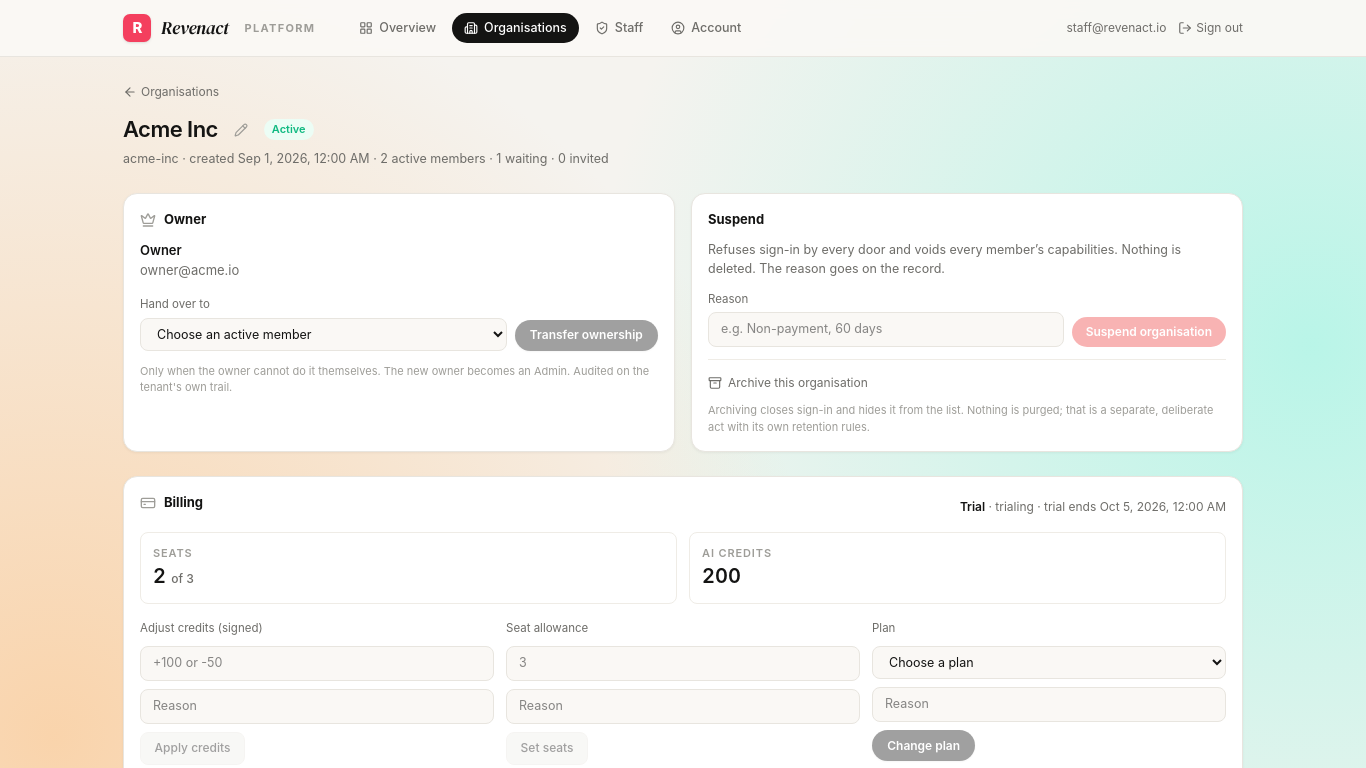
Platform portal › suspends an organisation with a reason, and reactivates it
Expected: the heading "Acme Inc" is shown, [123,113,218,146]
Expected: the button "Suspend organisation" is disabled, [1072,317,1226,347]
In the 1st field labelled "Reason": [886, 330] box [708,312,1064,347], type "Non-payment"
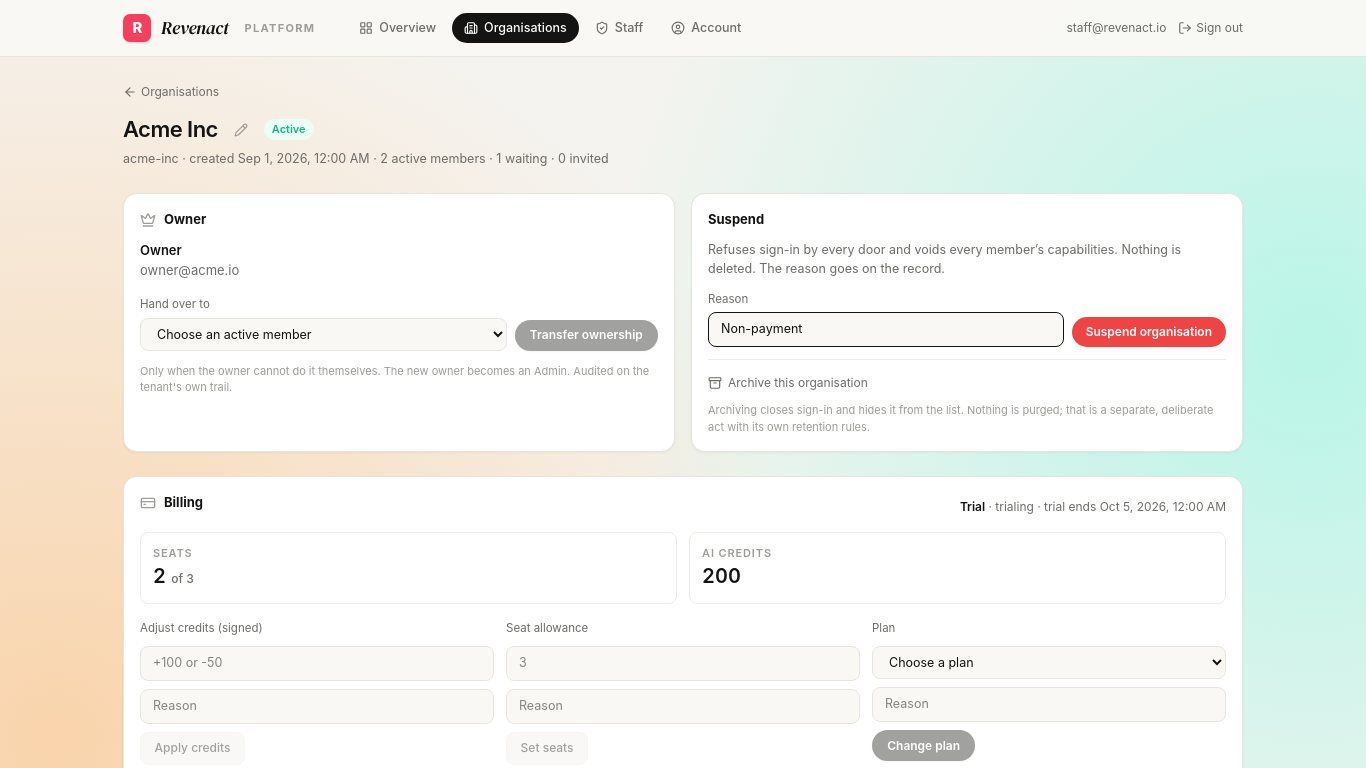
Click the button "Suspend organisation": [1149, 332] box [1072,317,1226,347]
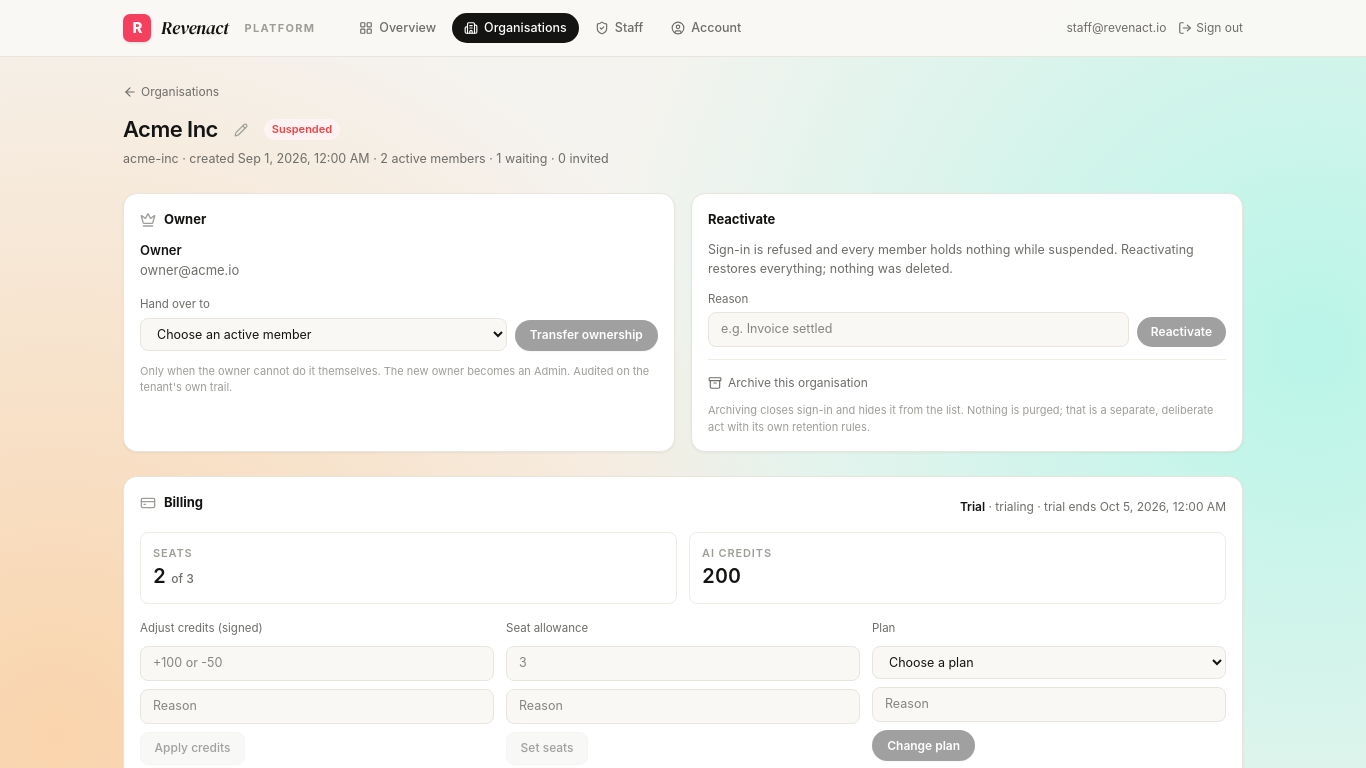
Now the button "Reactivate" is shown, box [1137,317,1226,347]
